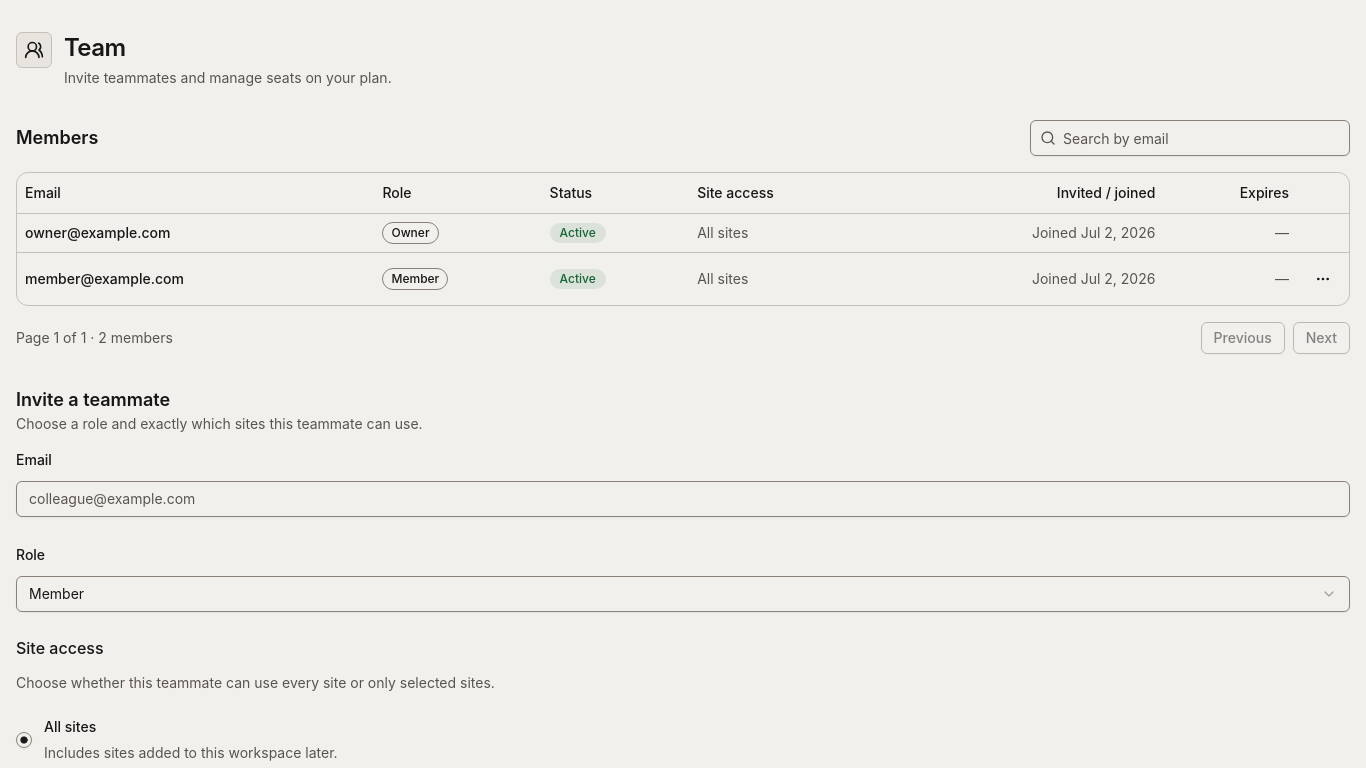
owner access editing › keeps the editor available when the update is rejected
The image size is (1366, 768).
Step 1. Click the button with test id "member-actions-m-1" → (1323, 278), box [1305,260,1341,296]
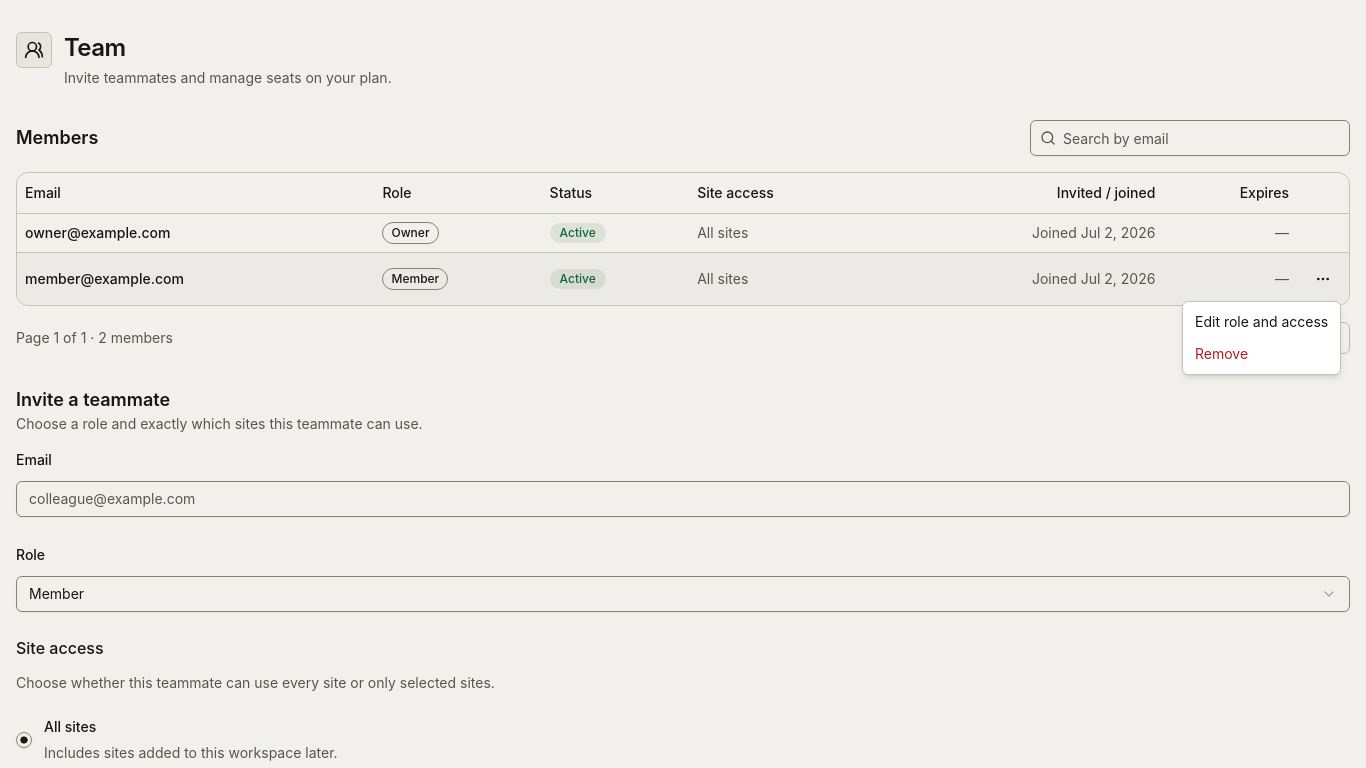
Step 2. Click the menu item "Edit role and access" → (1262, 322), box [1195,313,1328,330]
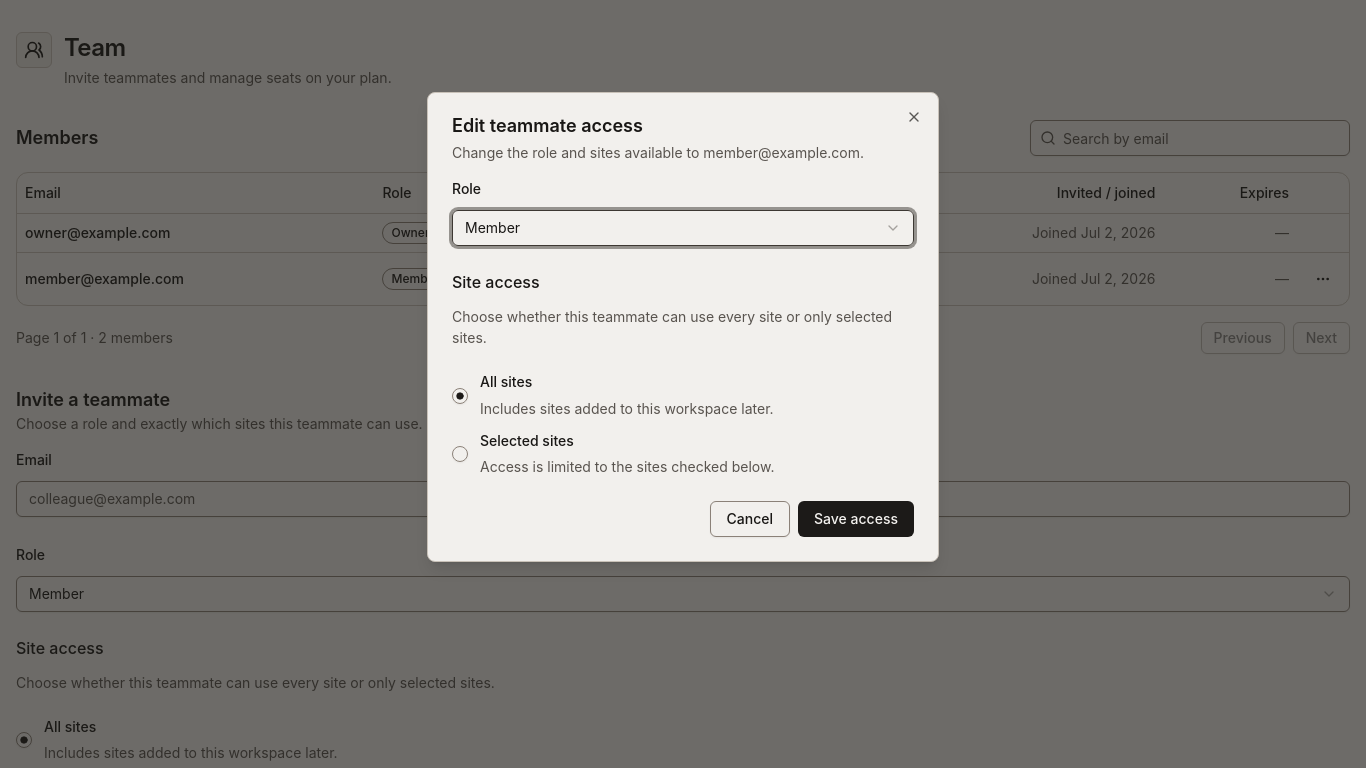
Step 3. Click the button "Save access" → (856, 519), box [798,501,914,537]
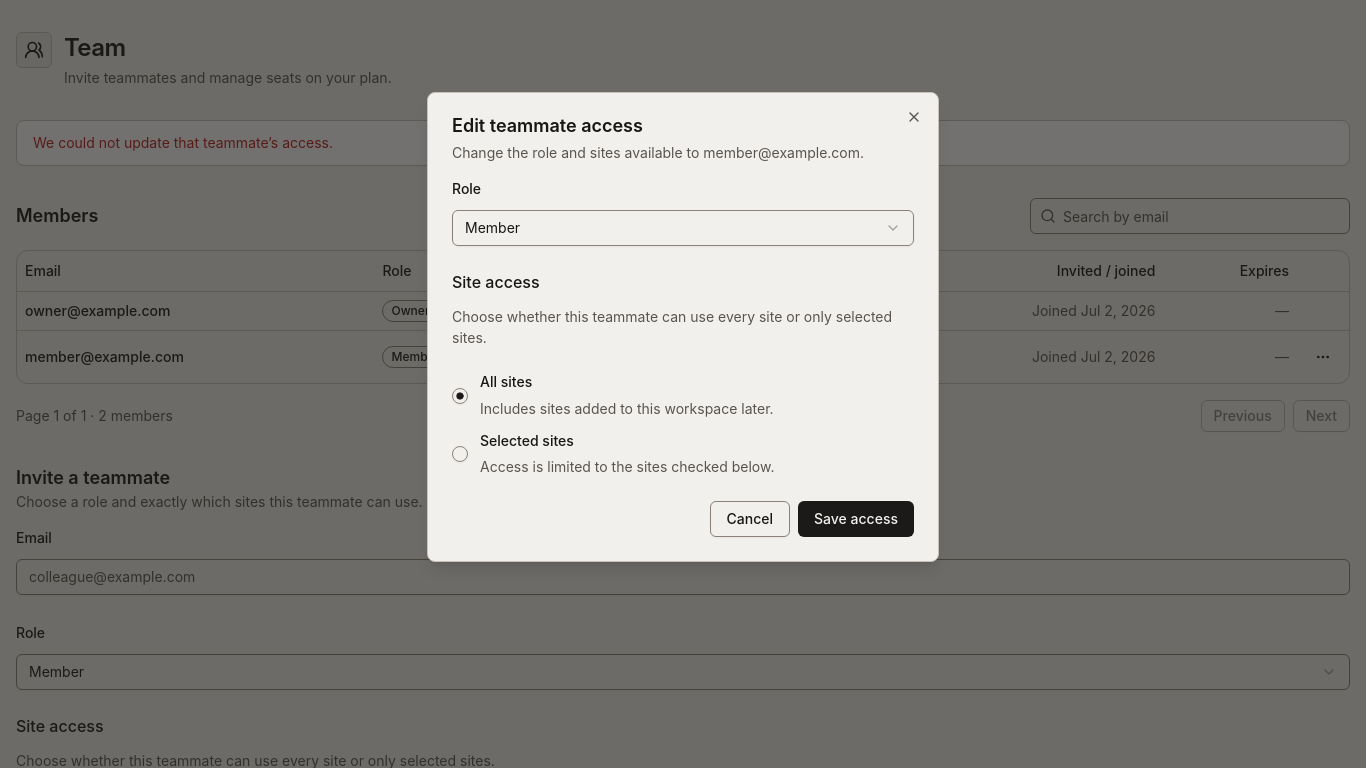
Now the dialog is shown, box [427,92,939,562]
Now the message shows "could not update", box [33,134,333,151]
